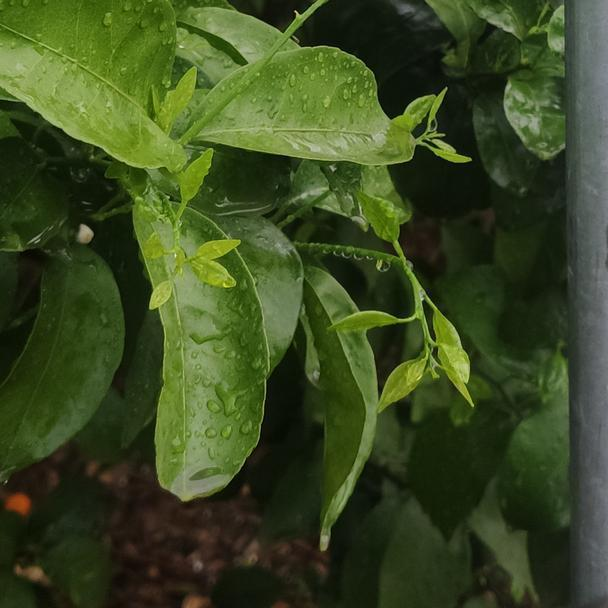shoot: (366, 254, 475, 421), (144, 173, 232, 312)
